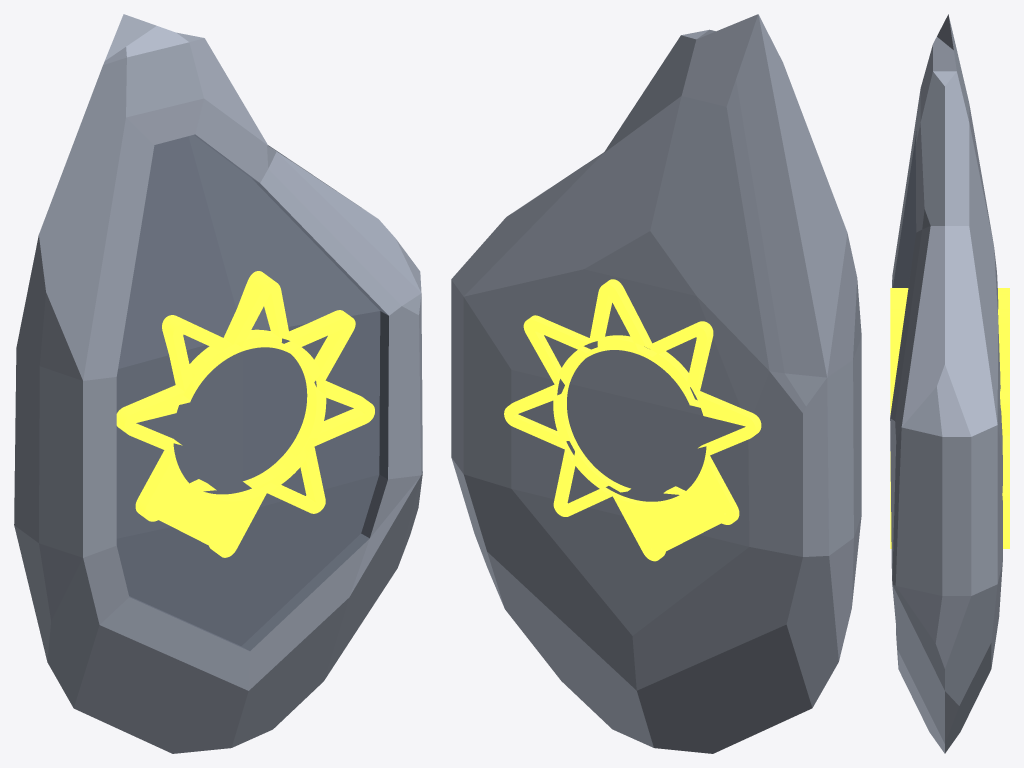
Rendered from RUNES_SUN.fbx.
3 views of the same model, side by side, from view 1: azimuth 30°, elevation 25°; view 2: azimuth 150°, elevation 25°; view 3: azimuth 270°, elevation 25° (orthographic). The views are drawn at different scales.
Visible parts, largest first — view 1: Text; view 2: Text; view 3: Text.
Boxes of the visible parts, box(x1,y1,x2,y2) form: Text: box(14, 14, 422, 753); Text: box(451, 14, 861, 753); Text: box(890, 14, 1009, 753).
Size of the model in its own units: 197 by 368 by 59.16.
